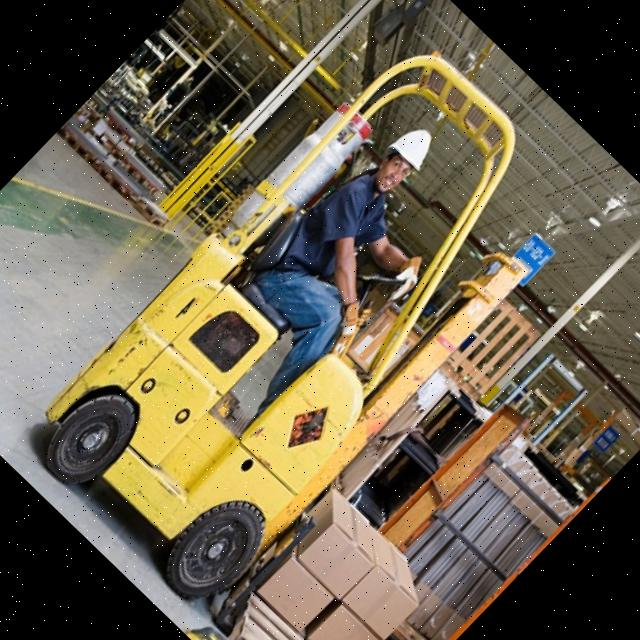Person: (159, 110, 496, 453)
